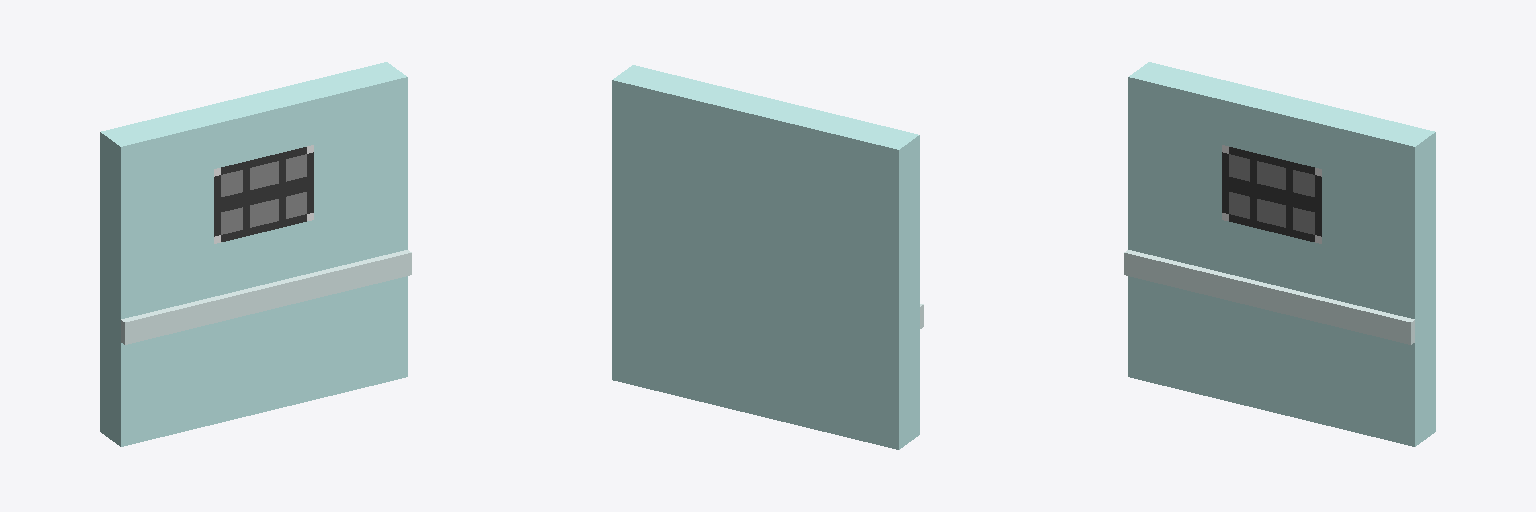
The picture shows the model from 3 angles: view 1: azimuth 30°, elevation 25°; view 2: azimuth 150°, elevation 25°; view 3: azimuth 330°, elevation 25°; orthographic projection.
Visible parts, largest first — view 1: object 1; view 2: object 1; view 3: object 1.
Boxes of the visible parts, <box> form: object 1: <box>100,62,411,446</box>; object 1: <box>612,65,923,449</box>; object 1: <box>1124,62,1435,446</box>.
Bounding box in the file's own units: 4 × 4 × 0.6.
1 materials, 1 textured.